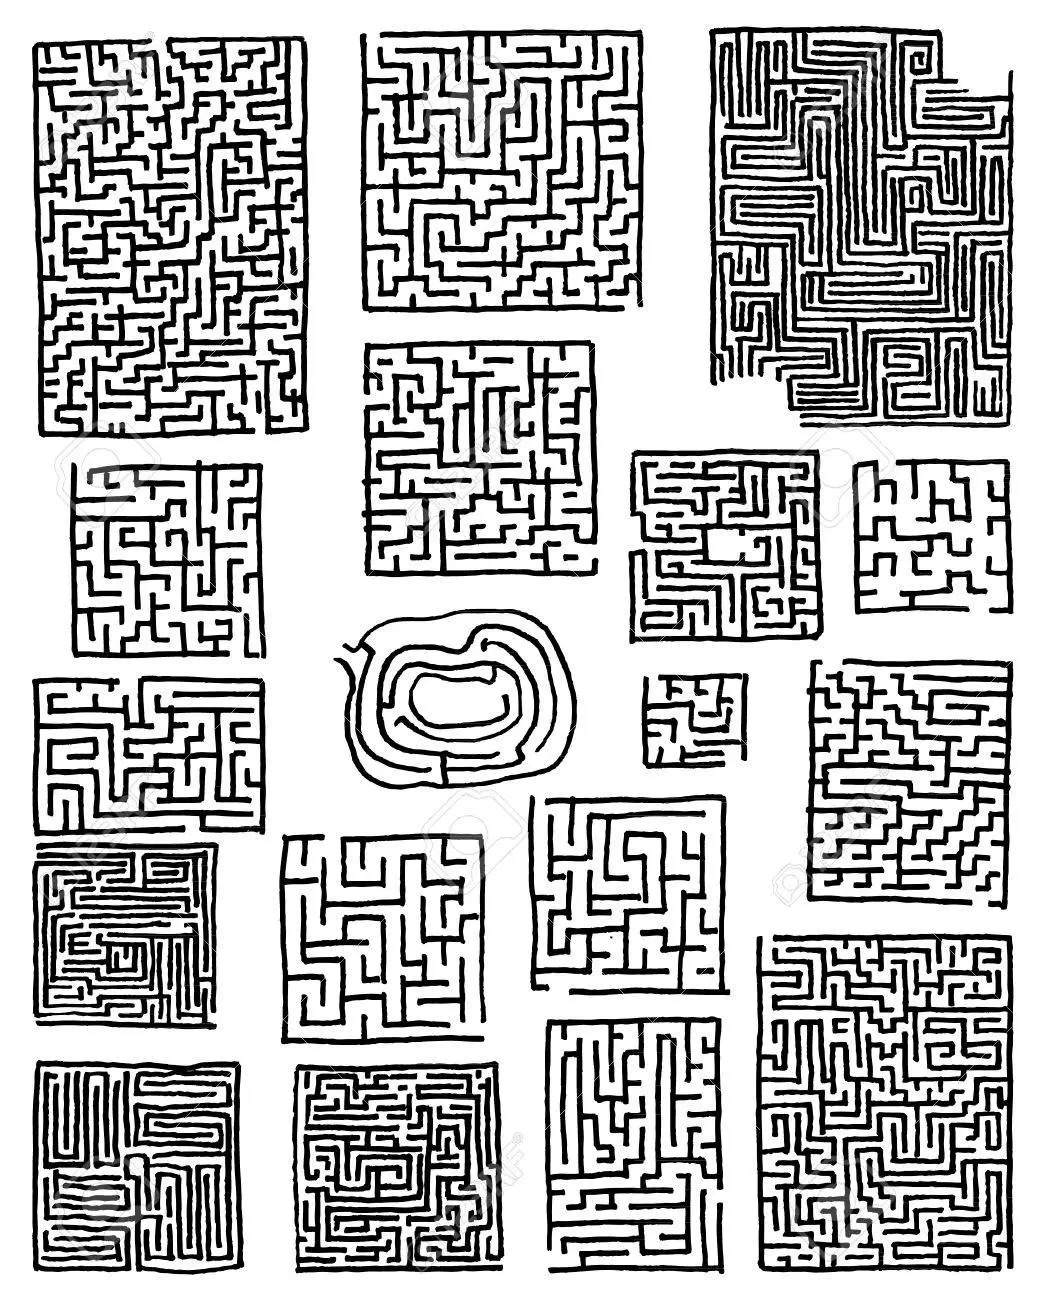maze: (699, 24, 1017, 433), (31, 35, 313, 440), (350, 24, 655, 322), (752, 934, 1018, 1273), (357, 340, 605, 588), (807, 660, 1011, 908), (543, 1015, 725, 1276), (327, 605, 577, 790), (278, 831, 488, 1047), (291, 1063, 506, 1272), (32, 1060, 241, 1272), (67, 456, 275, 662), (527, 794, 728, 995), (624, 449, 827, 645), (27, 677, 271, 837), (32, 842, 216, 1029), (852, 460, 1016, 616), (634, 670, 753, 777)
